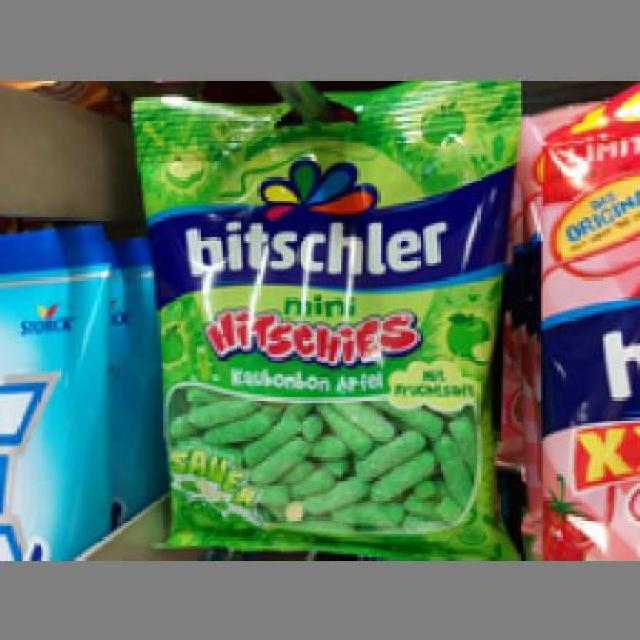Candy: (120, 79, 506, 555)
